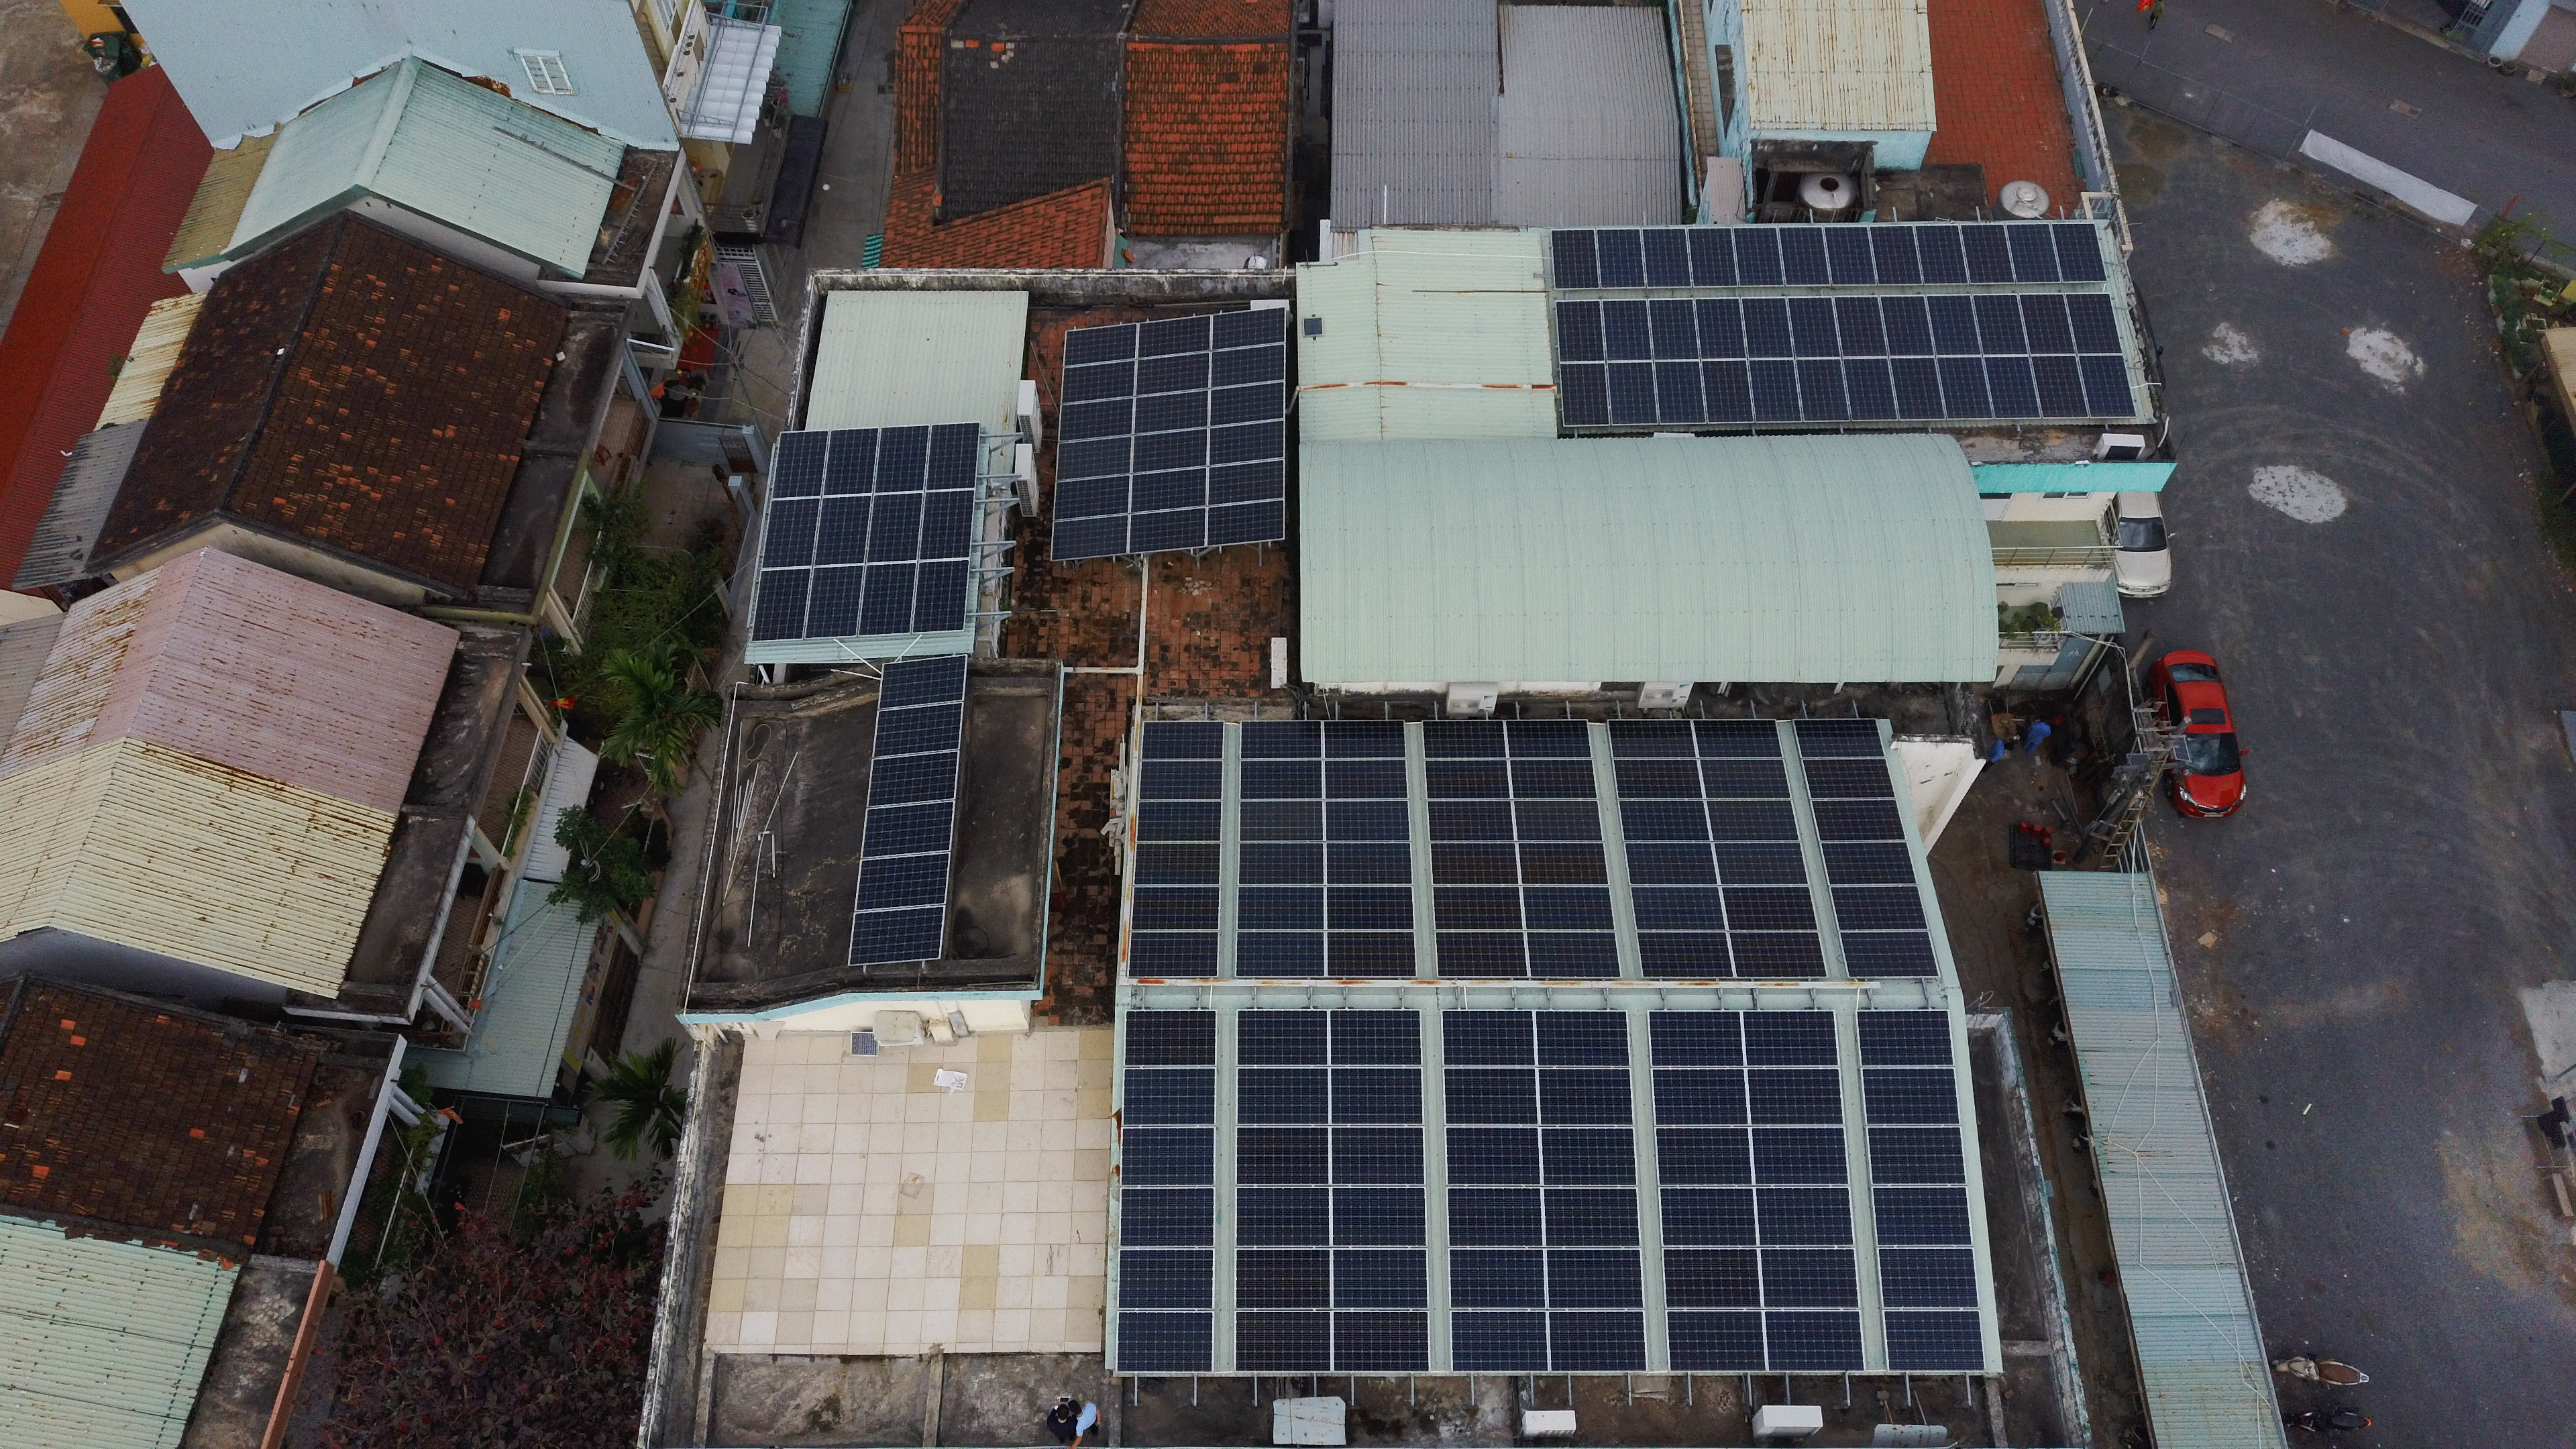Solar: (1444, 1182, 1552, 1254), (1438, 1062, 1546, 1134), (1437, 1001, 1545, 1074), (1532, 1060, 1640, 1132), (1534, 1122, 1642, 1194), (1537, 1244, 1645, 1316), (1543, 1306, 1651, 1378), (1663, 1304, 1771, 1376), (1649, 1060, 1757, 1132), (1741, 1060, 1849, 1132), (1750, 1182, 1858, 1254), (1753, 1244, 1861, 1316), (1760, 1302, 1868, 1375), (1863, 1122, 1971, 1194), (1858, 1060, 1966, 1132), (1854, 1001, 1962, 1074), (1447, 1306, 1555, 1376), (1445, 1244, 1553, 1315), (1442, 1123, 1550, 1194), (1529, 1003, 1637, 1074), (1536, 1182, 1644, 1253), (1658, 1244, 1766, 1315), (1654, 1182, 1762, 1253), (1652, 1120, 1760, 1191), (1645, 1005, 1753, 1076), (1737, 1003, 1845, 1074), (1744, 1122, 1852, 1192), (1879, 1306, 1987, 1376), (1874, 1244, 1982, 1315), (1868, 1182, 1976, 1253), (1323, 1062, 1431, 1131), (1325, 1122, 1433, 1191), (1323, 1182, 1431, 1251), (1327, 1244, 1435, 1313), (1322, 1005, 1430, 1072), (1329, 1307, 1435, 1375), (1235, 1060, 1332, 1132), (1235, 1122, 1334, 1192), (1116, 1306, 1214, 1376), (1233, 1307, 1330, 1378), (1235, 1244, 1332, 1315), (1233, 1182, 1330, 1253), (1235, 1001, 1332, 1072), (1633, 924, 1741, 985), (1725, 924, 1833, 985), (851, 849, 955, 913), (860, 747, 964, 810), (847, 902, 950, 966), (858, 796, 961, 860), (867, 699, 970, 763), (872, 649, 975, 713), (1716, 878, 1824, 938), (1709, 833, 1817, 893), (1700, 793, 1808, 853), (1122, 1007, 1221, 1072), (1118, 1065, 1217, 1131), (1118, 1123, 1217, 1189), (1115, 1244, 1214, 1309), (1118, 1184, 1215, 1249), (1626, 878, 1734, 936), (1826, 879, 1936, 936), (1525, 924, 1624, 985), (1838, 929, 1948, 984), (1520, 879, 1619, 939), (1513, 835, 1612, 895), (1509, 793, 1608, 853), (1504, 752, 1603, 812), (1695, 748, 1794, 809), (1233, 881, 1332, 936), (1233, 927, 1332, 982), (1323, 927, 1422, 982), (1320, 715, 1419, 770), (1819, 835, 1918, 890), (1603, 711, 1704, 764), (1610, 752, 1711, 805), (1622, 835, 1723, 888), (1322, 835, 1419, 890), (1318, 754, 1415, 809), (757, 494, 823, 575), (860, 488, 925, 570), (1617, 793, 1716, 846), (908, 556, 973, 635), (855, 561, 920, 640), (800, 563, 865, 642), (747, 564, 812, 644), (809, 492, 874, 571), (911, 487, 977, 566), (918, 418, 984, 497), (869, 419, 934, 499), (817, 421, 883, 501), (768, 425, 833, 504), (1323, 879, 1421, 932), (1320, 794, 1417, 847), (1690, 713, 1785, 766), (1792, 713, 1888, 766), (1799, 754, 1895, 807), (1810, 793, 1905, 846), (1502, 713, 1594, 768), (1238, 835, 1327, 890), (1417, 715, 1513, 764), (1419, 755, 1514, 805), (1422, 796, 1518, 846), (1428, 839, 1523, 888), (1431, 883, 1527, 932), (1433, 931, 1529, 980), (1125, 932, 1223, 980), (2026, 354, 2089, 421), (1741, 357, 1805, 425), (1552, 361, 1615, 428), (1688, 297, 1752, 364), (1785, 295, 1849, 363), (1911, 221, 1974, 288), (1865, 221, 1928, 288), (1047, 513, 1131, 564), (1053, 433, 1136, 485), (1060, 320, 1143, 372), (1205, 497, 1288, 548), (1205, 377, 1288, 428), (1136, 757, 1224, 805), (1132, 840, 1221, 888), (1058, 357, 1139, 409), (1205, 414, 1286, 465), (1207, 340, 1288, 391), (2075, 354, 2137, 421), (1983, 354, 2045, 421), (1934, 356, 1996, 423), (1888, 356, 1950, 423), (1836, 356, 1898, 423), (1792, 357, 1854, 425), (1695, 359, 1757, 426), (1649, 357, 1711, 425), (1599, 361, 1661, 428), (1548, 297, 1610, 364), (1596, 297, 1658, 364), (1640, 297, 1702, 364), (1736, 295, 1798, 363), (1829, 294, 1891, 361), (1875, 292, 1937, 359), (1923, 292, 1985, 359), (1967, 292, 2029, 359), (2019, 290, 2081, 357), (2061, 288, 2123, 356), (2047, 219, 2109, 287), (2001, 219, 2063, 287), (1957, 219, 2019, 287), (1729, 225, 1790, 292), (1683, 223, 1744, 290), (1637, 225, 1698, 292), (1591, 225, 1652, 292), (1546, 226, 1608, 294), (1051, 472, 1134, 522), (1129, 386, 1212, 435), (1127, 425, 1210, 474), (1127, 506, 1210, 556), (1138, 717, 1226, 763), (1134, 800, 1223, 846), (1131, 885, 1219, 931), (1238, 718, 1327, 764), (1237, 755, 1325, 801), (1237, 798, 1325, 844), (1821, 223, 1882, 288), (1773, 223, 1835, 288), (1054, 395, 1136, 444), (1134, 311, 1215, 361), (1132, 347, 1214, 396), (1129, 464, 1210, 513), (1207, 456, 1288, 506), (1208, 304, 1290, 354)
